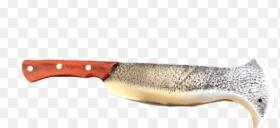MACHETTE: (16, 52, 273, 128)
